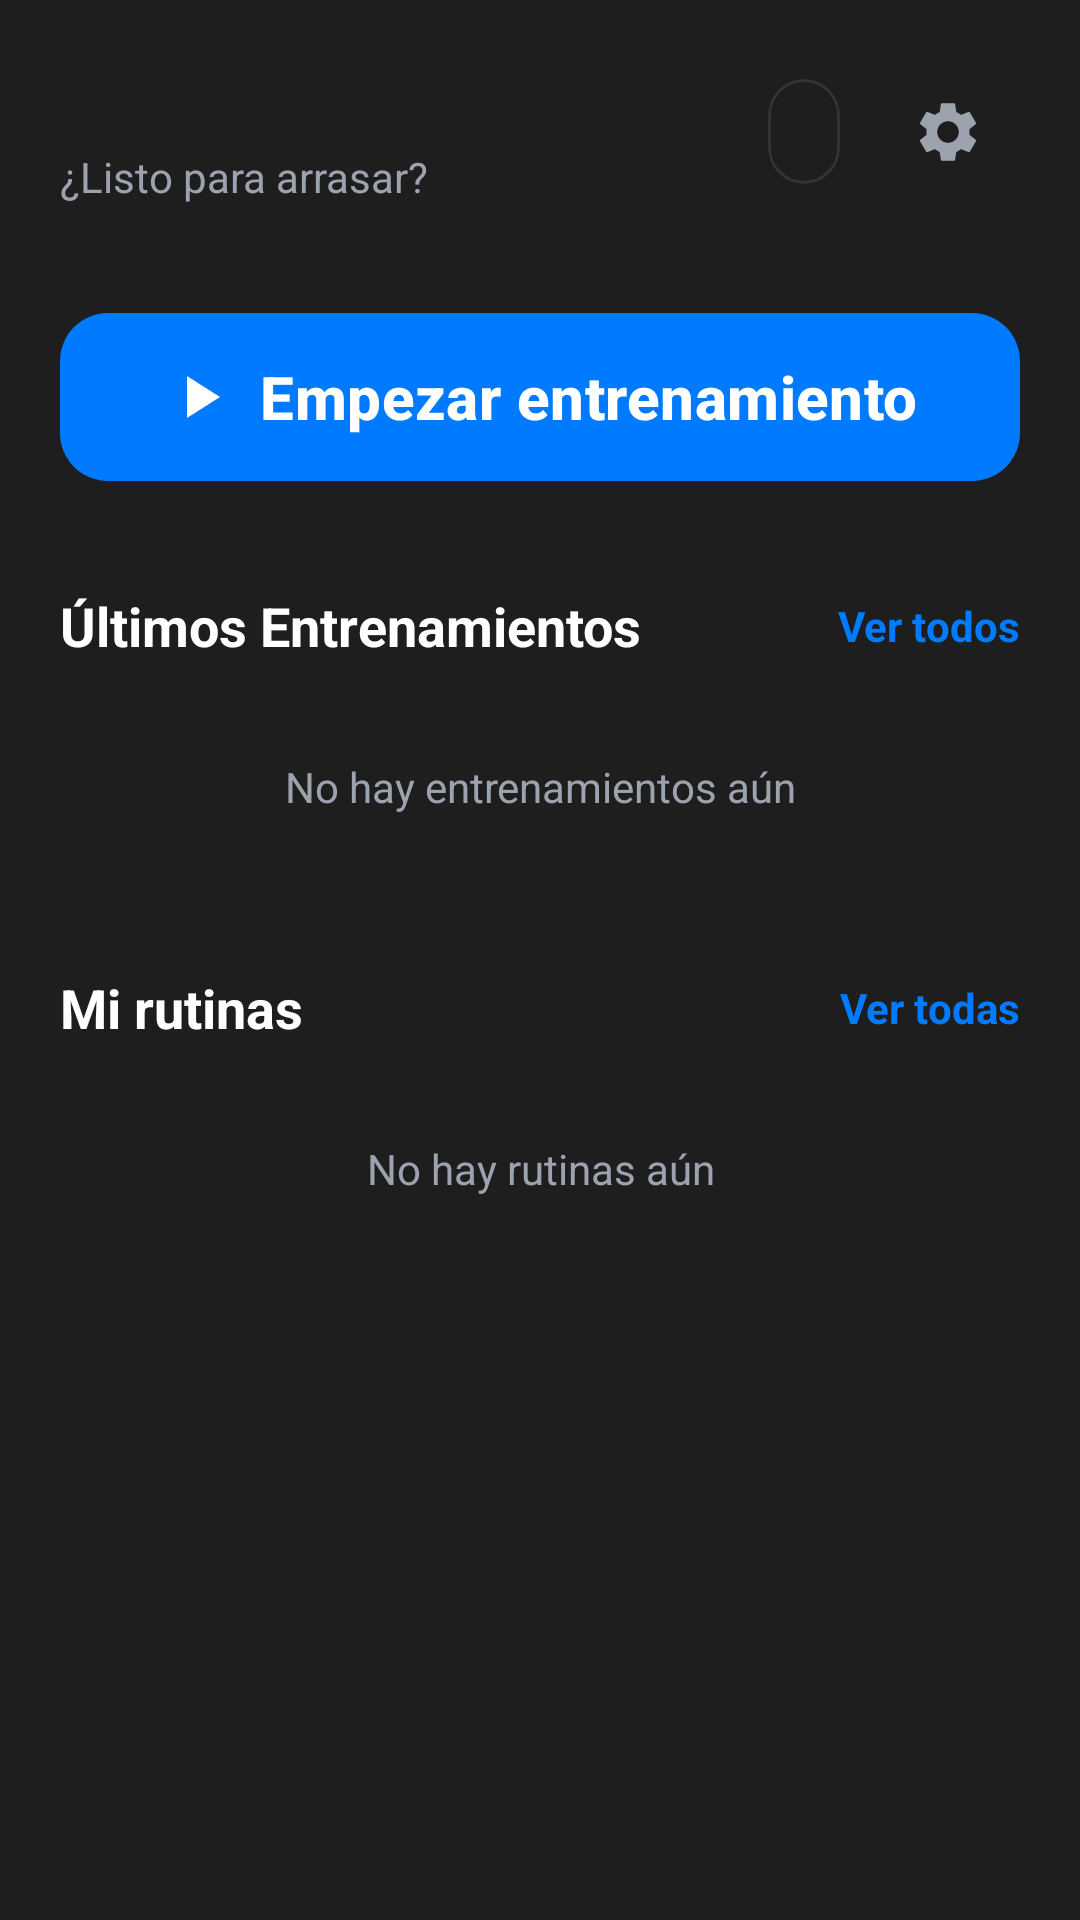

Where to tap for icons on this 1080x1920 app screen, as [x,y]:
settings: [948,132]
